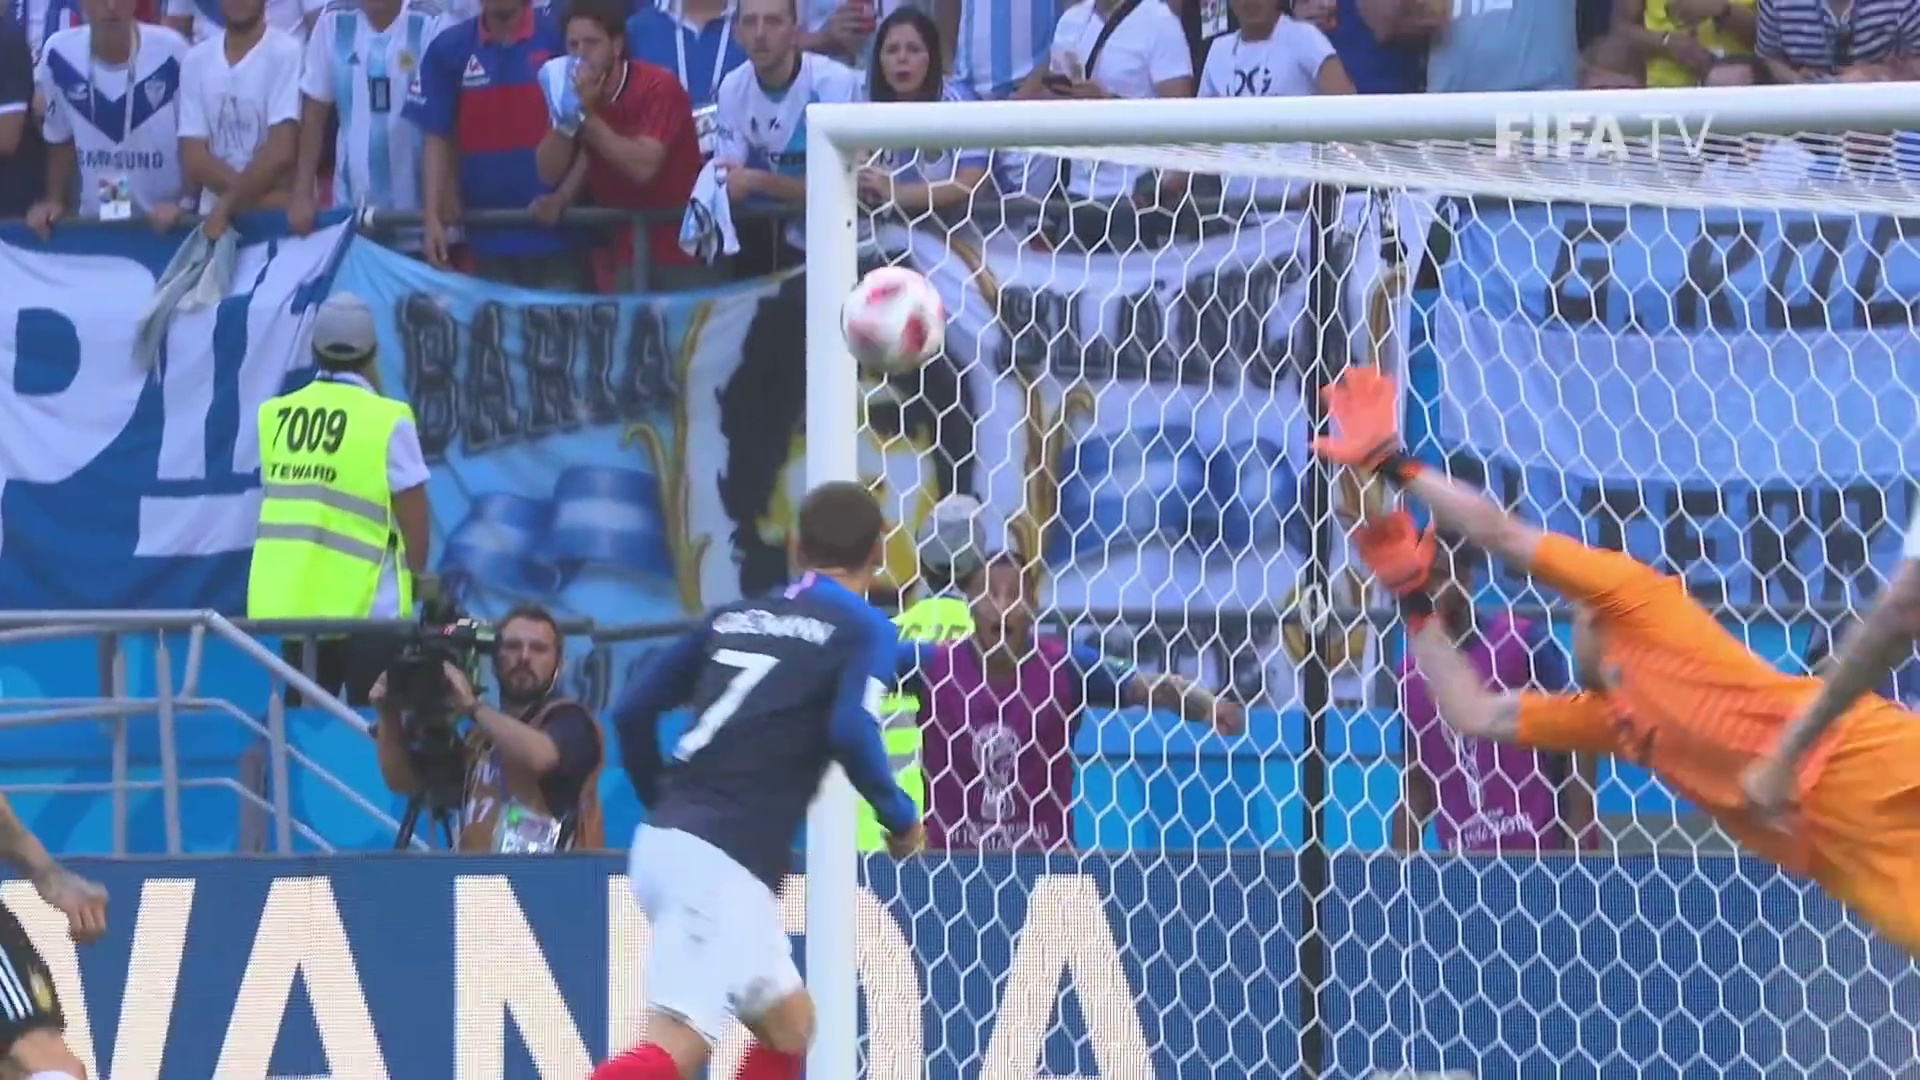ball: (840, 267, 948, 363)
person: (1326, 351, 1920, 974), (636, 480, 879, 1067)
